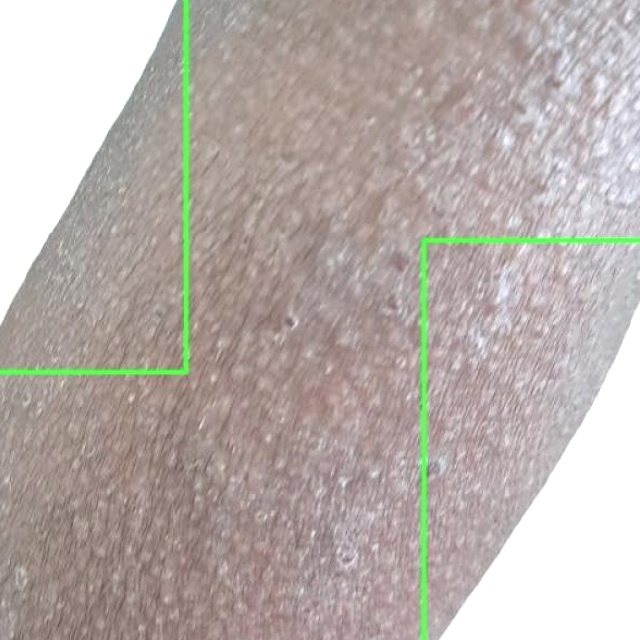Contact Dermatitis: (424, 240, 639, 639), (0, 0, 186, 372)
